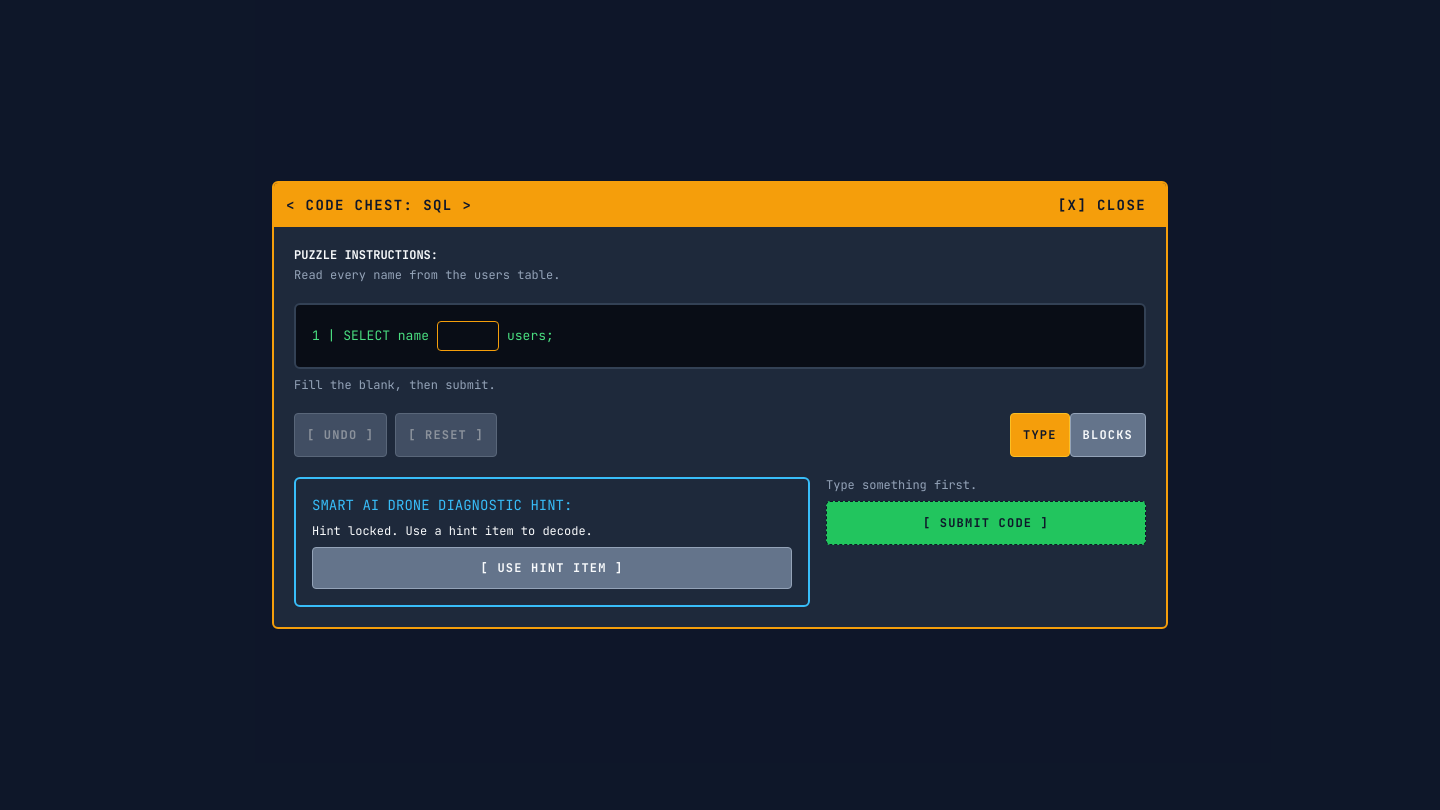
Test: ChallengeTerminal: Blocks mode, Undo and Reset › switching modes keeps the value
This screenshot has width=1440, height=810.
In the field named "answer": (468, 336) [437,321,499,351], type "WHERE"
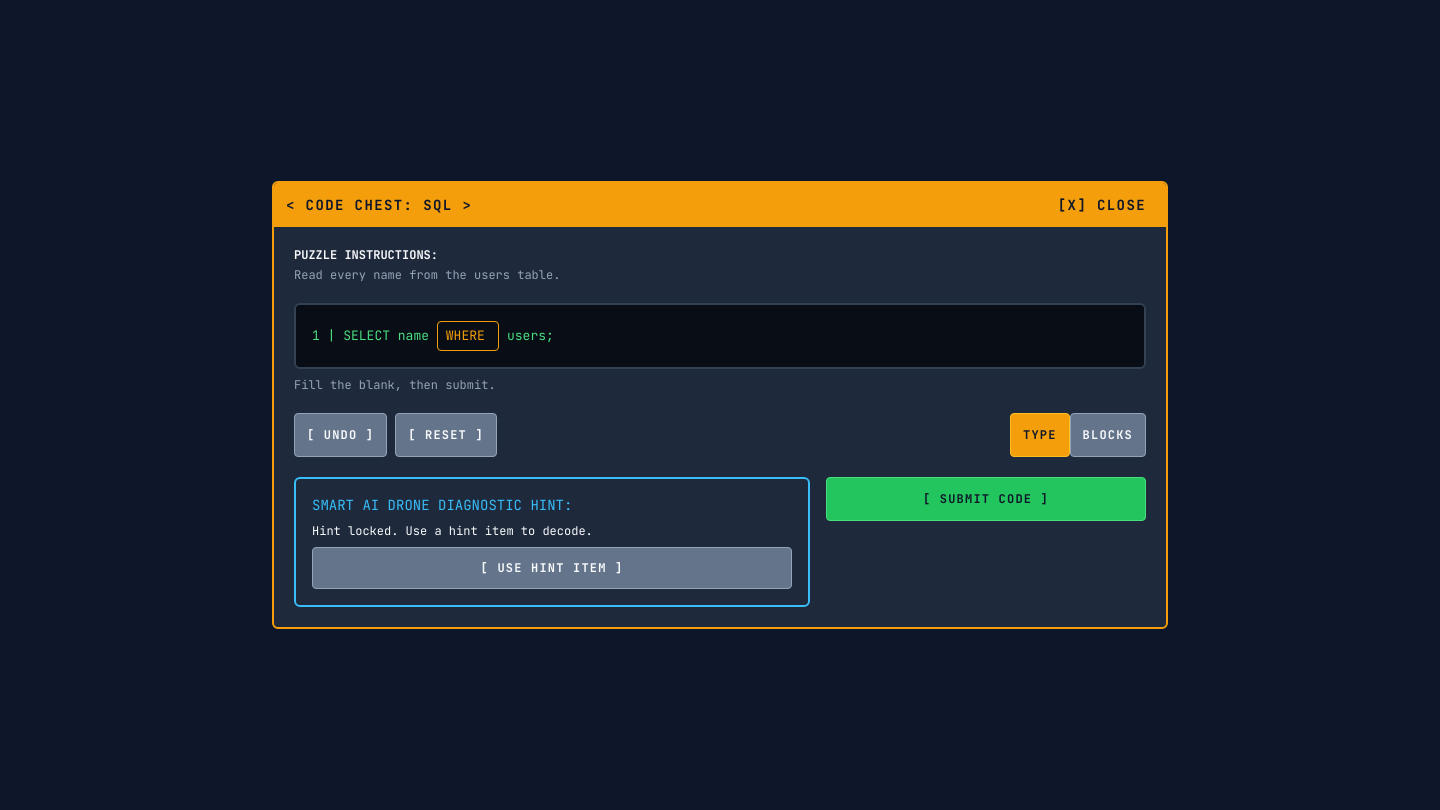
Click the button "Blocks": (1108, 435) [1070,413,1146,457]
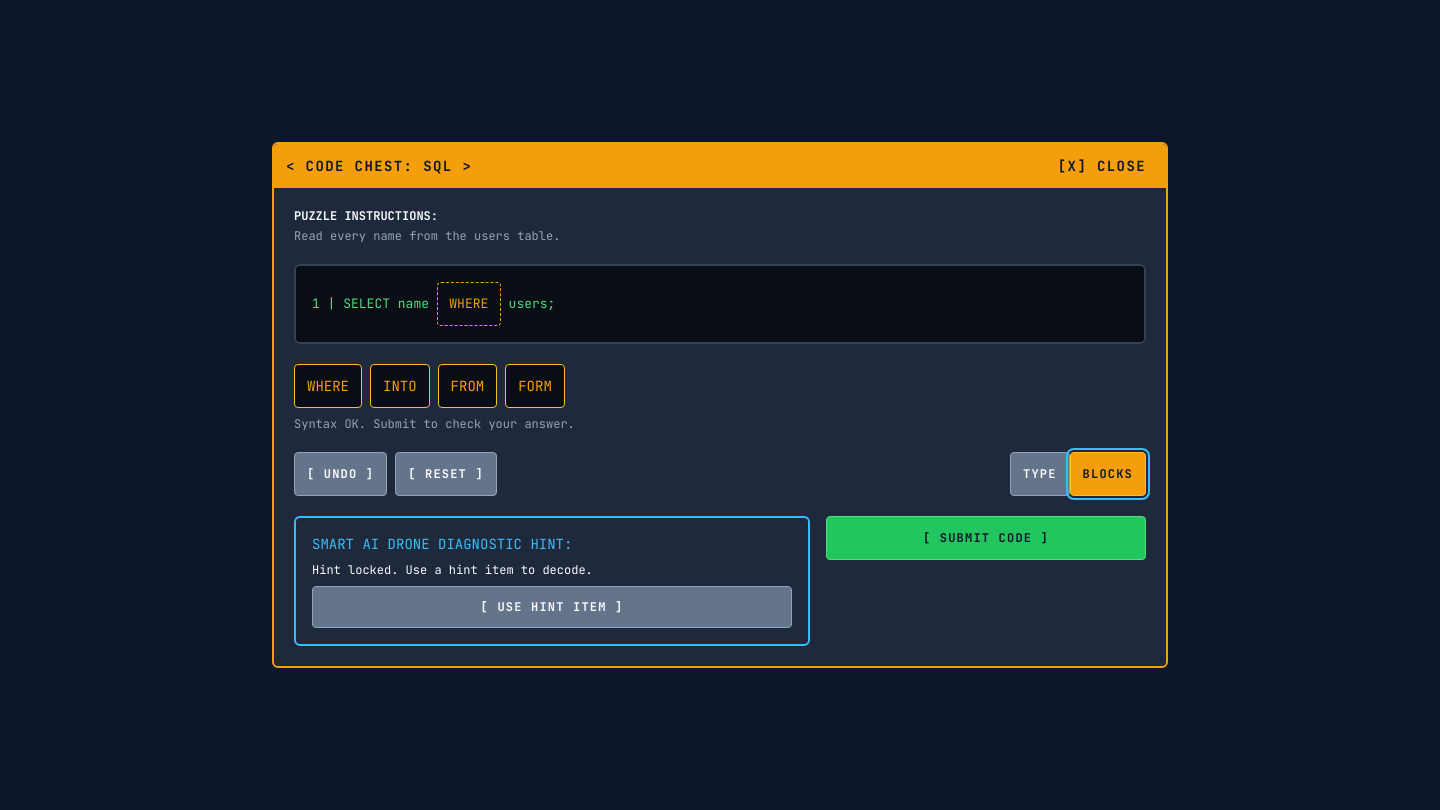
Check: the button with test id "block-slot" reads "WHERE", box [437,282,501,326]
Click the button "Type": (1040, 474) [1010,452,1070,496]
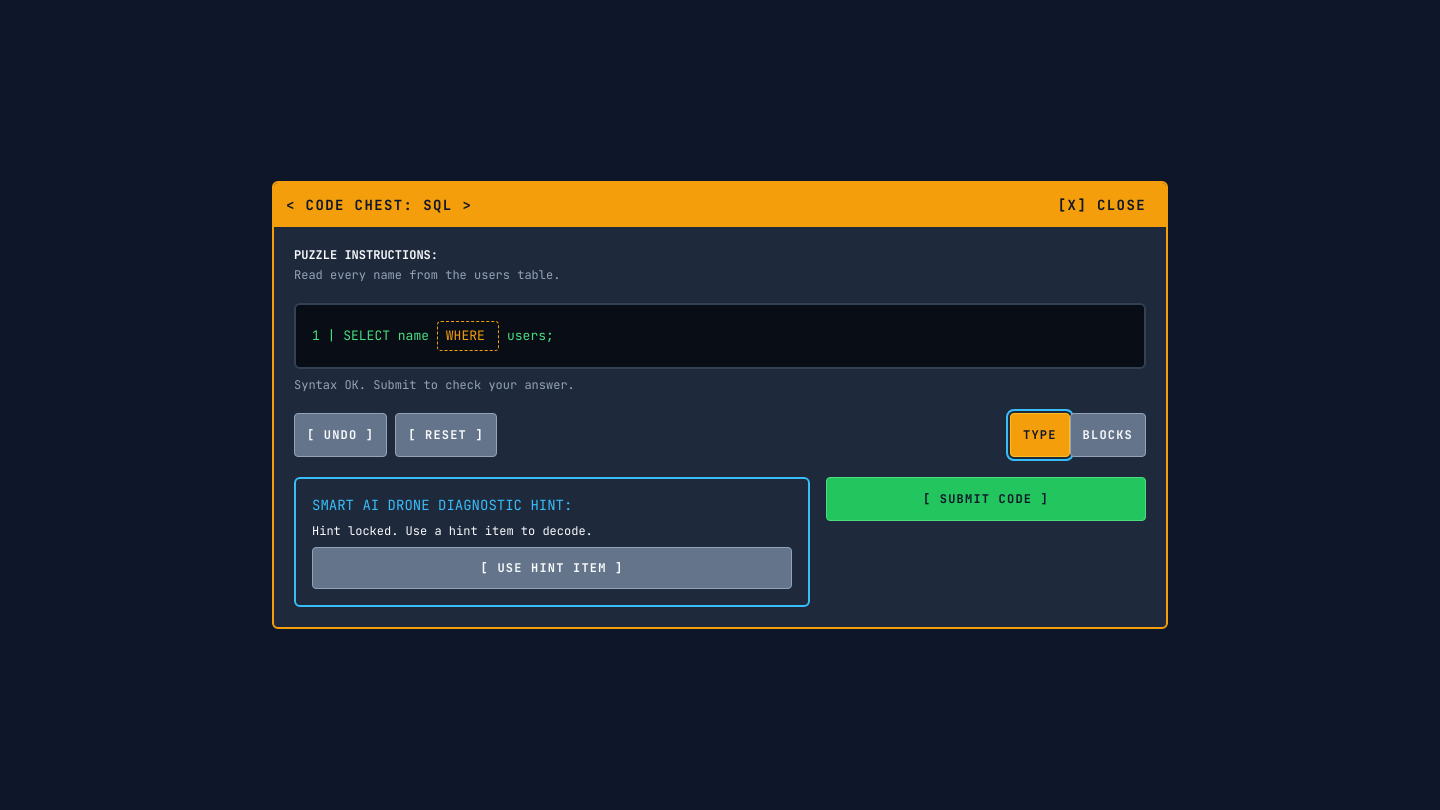
Check: the field named "answer" holds "WHERE", box [437,321,499,351]
